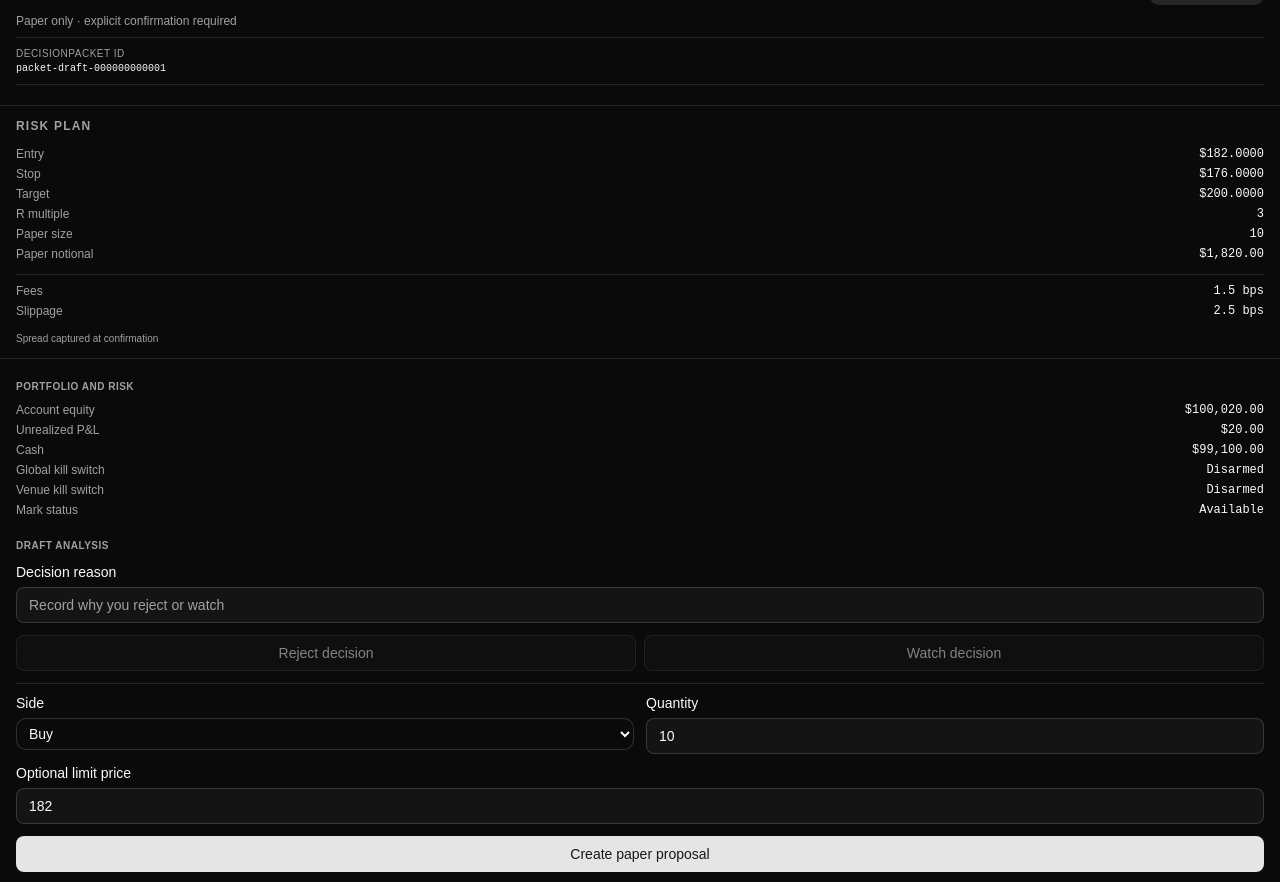
Test case: DecisionRail › saves the exact draft before creating a packet-bound proposal and leaves confirmation explicit
Click the button "Create paper proposal": [640, 854] box top-left (16, 836), bottom-right (1264, 872)
(page scrolled)
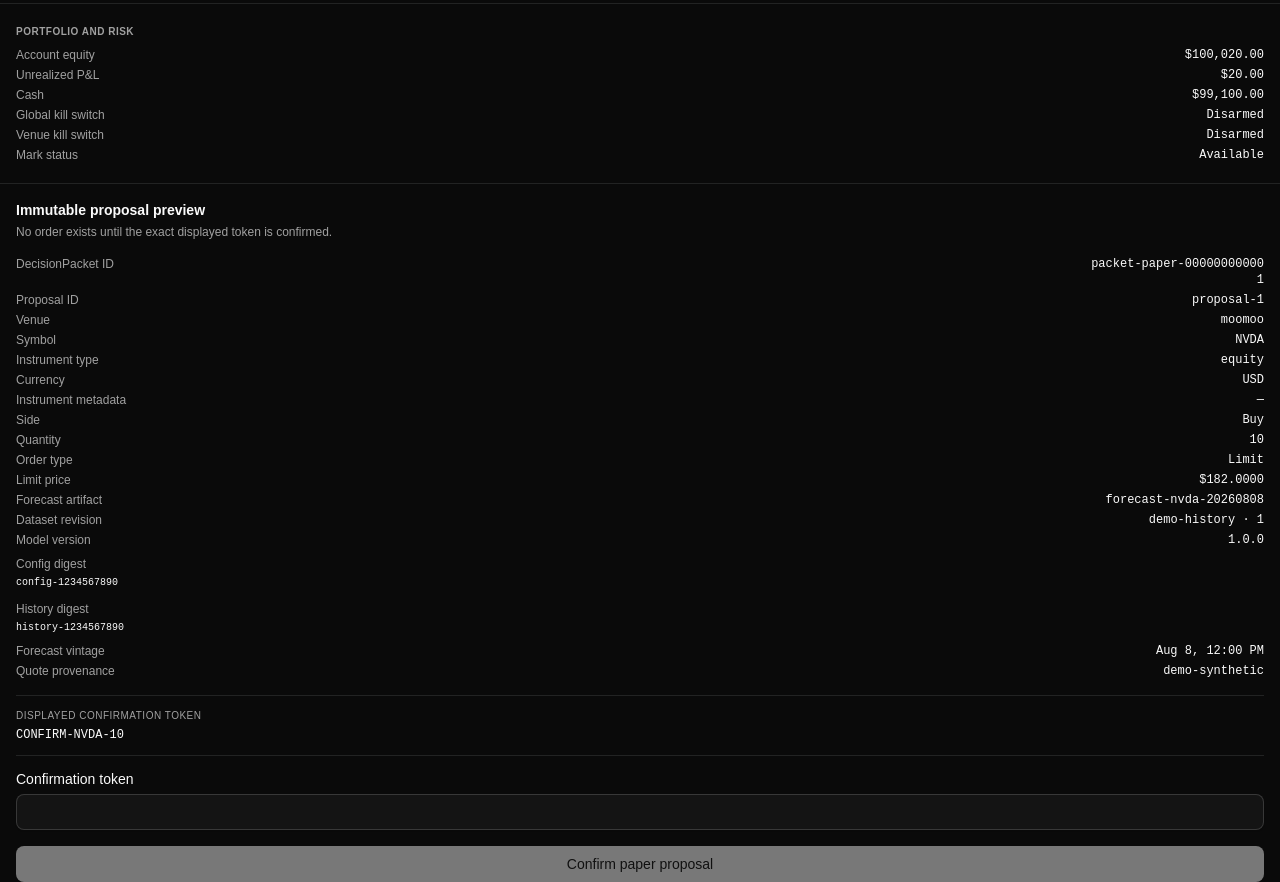
Result: the text "proposal-1" is shown at top-left (1192, 292), bottom-right (1264, 308)
Result: the button "Confirm paper proposal" is disabled at top-left (16, 846), bottom-right (1264, 881)
